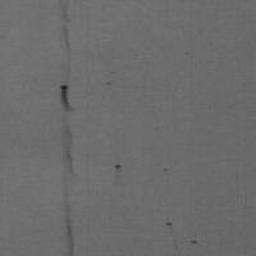Inclusion: (56, 0, 81, 256), (165, 221, 180, 248), (114, 163, 123, 180), (163, 166, 170, 177), (191, 238, 200, 246), (105, 81, 113, 87)
